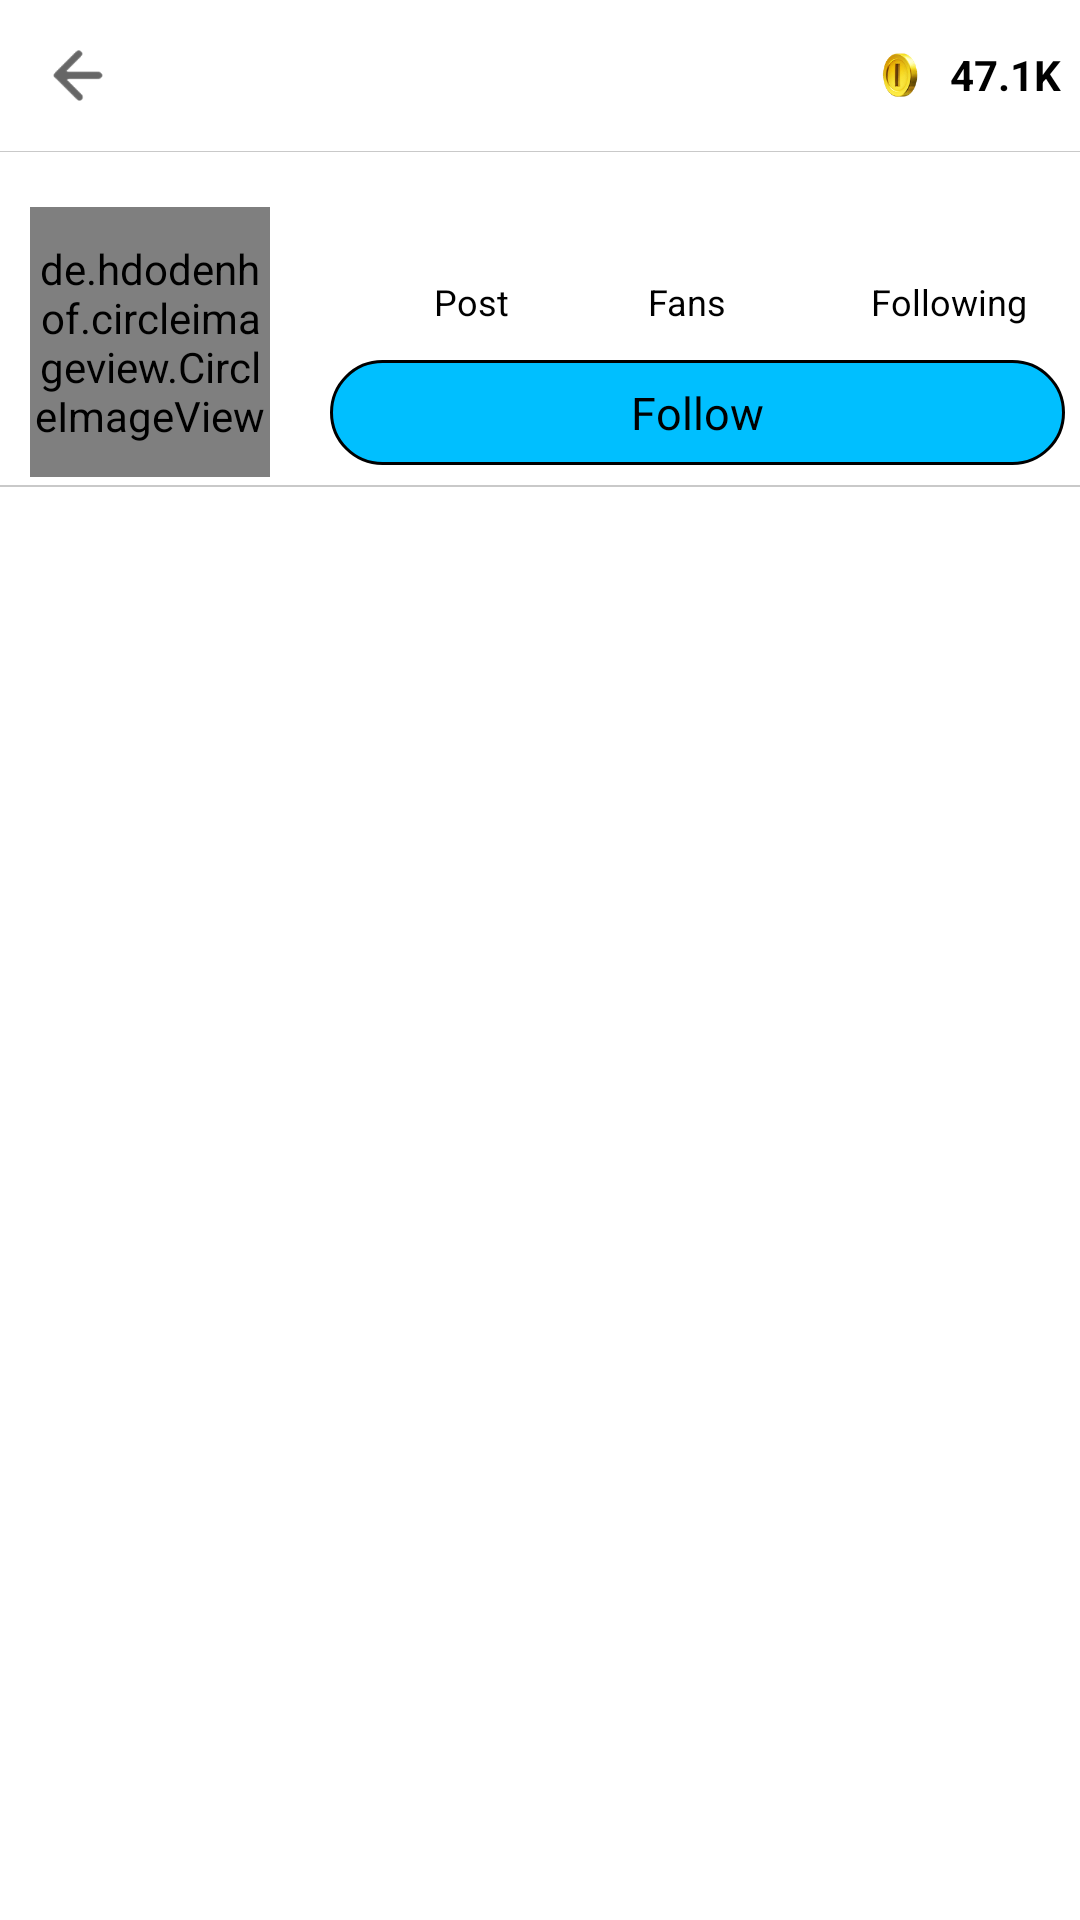

Icons on this 1080×1920 Android screen, each with the point to tap as [x,y]:
back: [78,75]
coin: [900,75]
